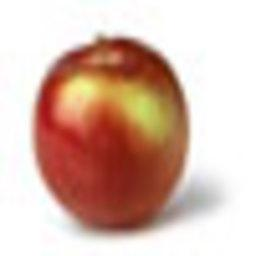apple: (29, 36, 194, 229)
